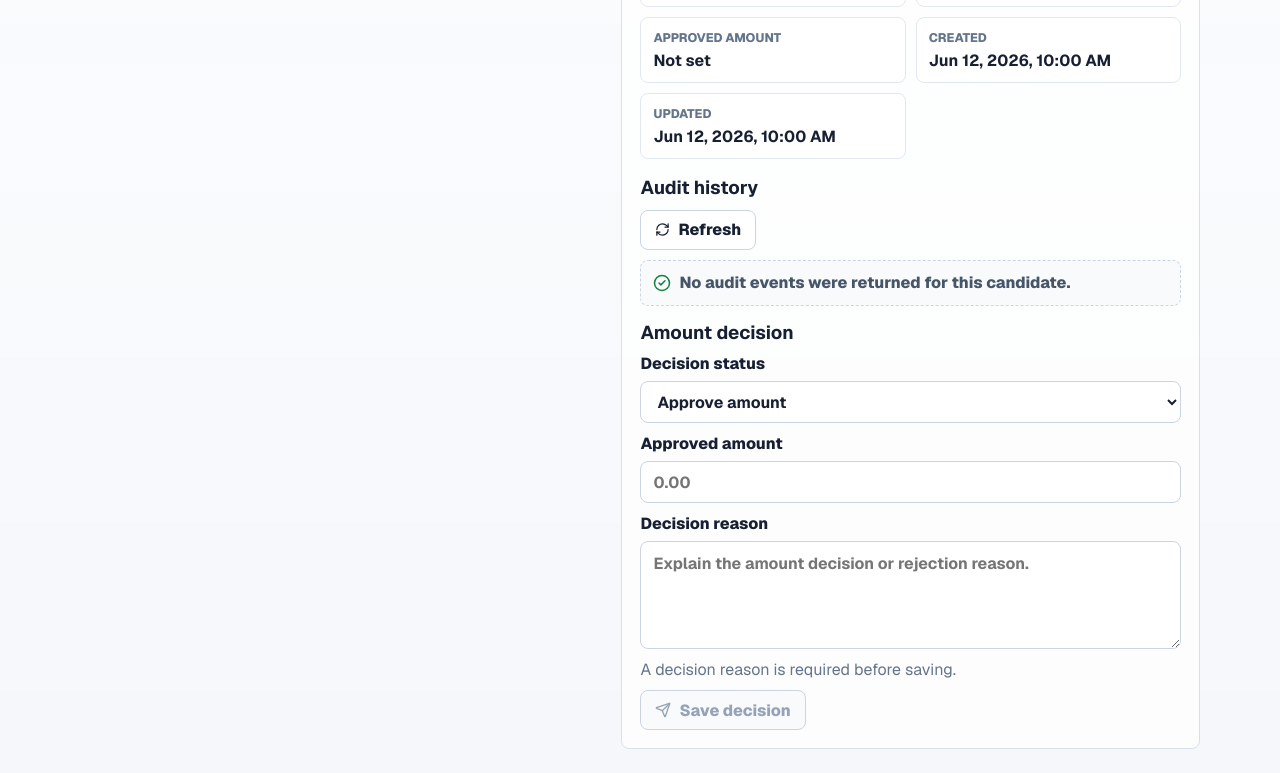
Test: AdminRewardAmountReviewRoute › submits an approved amount decision for the selected candidate
(page scrolled)
In the field labelled "Approved amount": (911, 482) [640,461,1181,503], type "12.50"
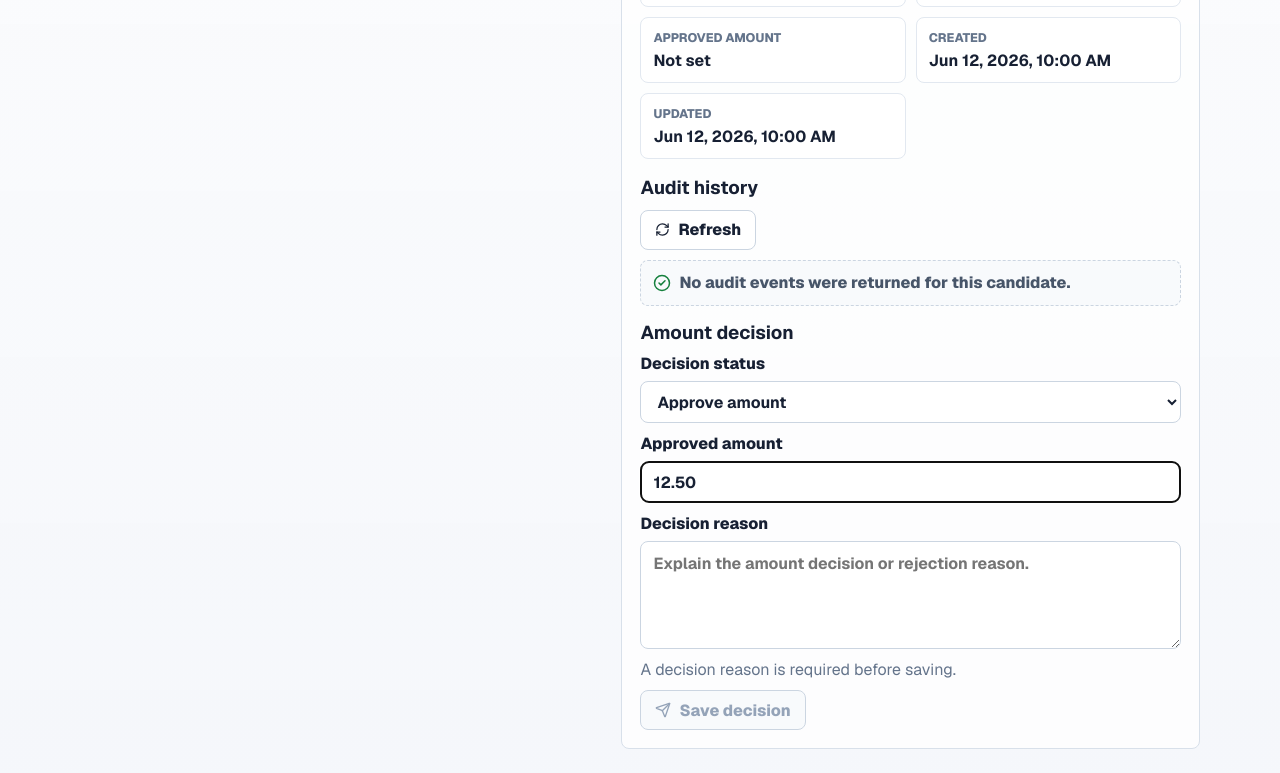
In the text box labelled "Decision reason": (911, 595) [640,541,1181,649], type "Evidence amount verified"
(page scrolled)
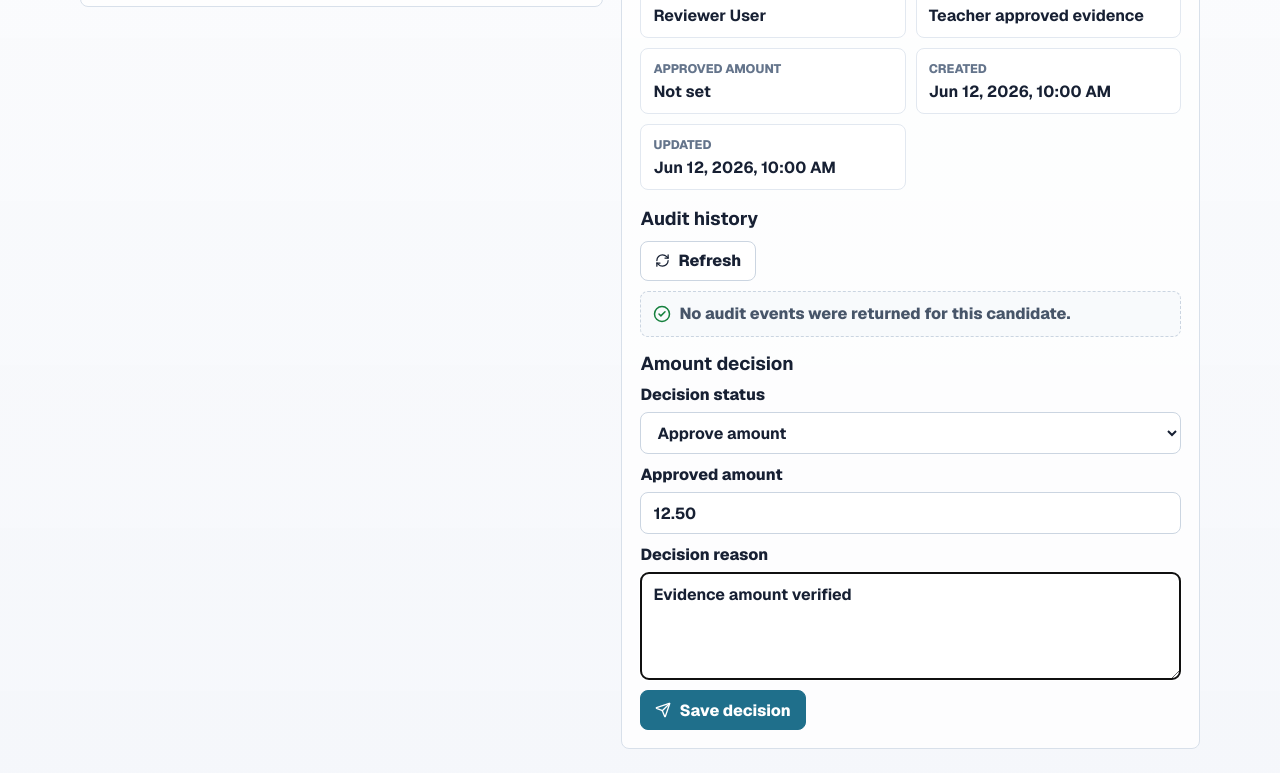
Click the button "Save decision": (723, 710) [640,690,806,730]
(page scrolled)
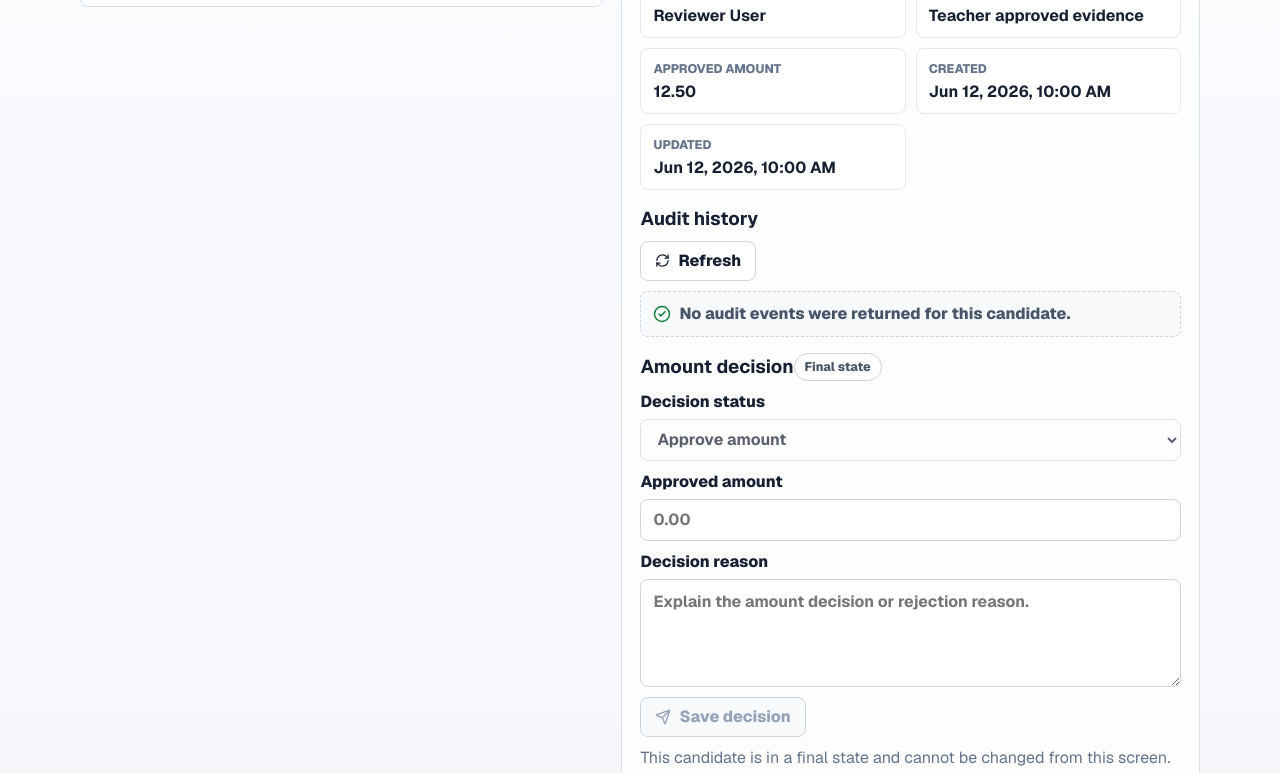
Expected: the text "This candidate is in a final state and cannot be changed from this screen." is shown, [640,747,1181,768]
